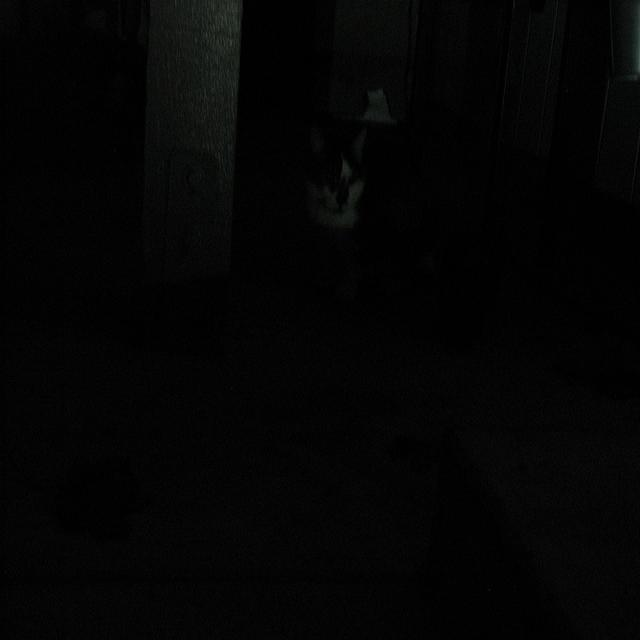Cat: (306, 92, 378, 301)
